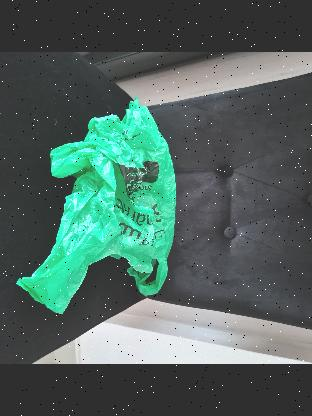Others: (15, 97, 177, 317)
